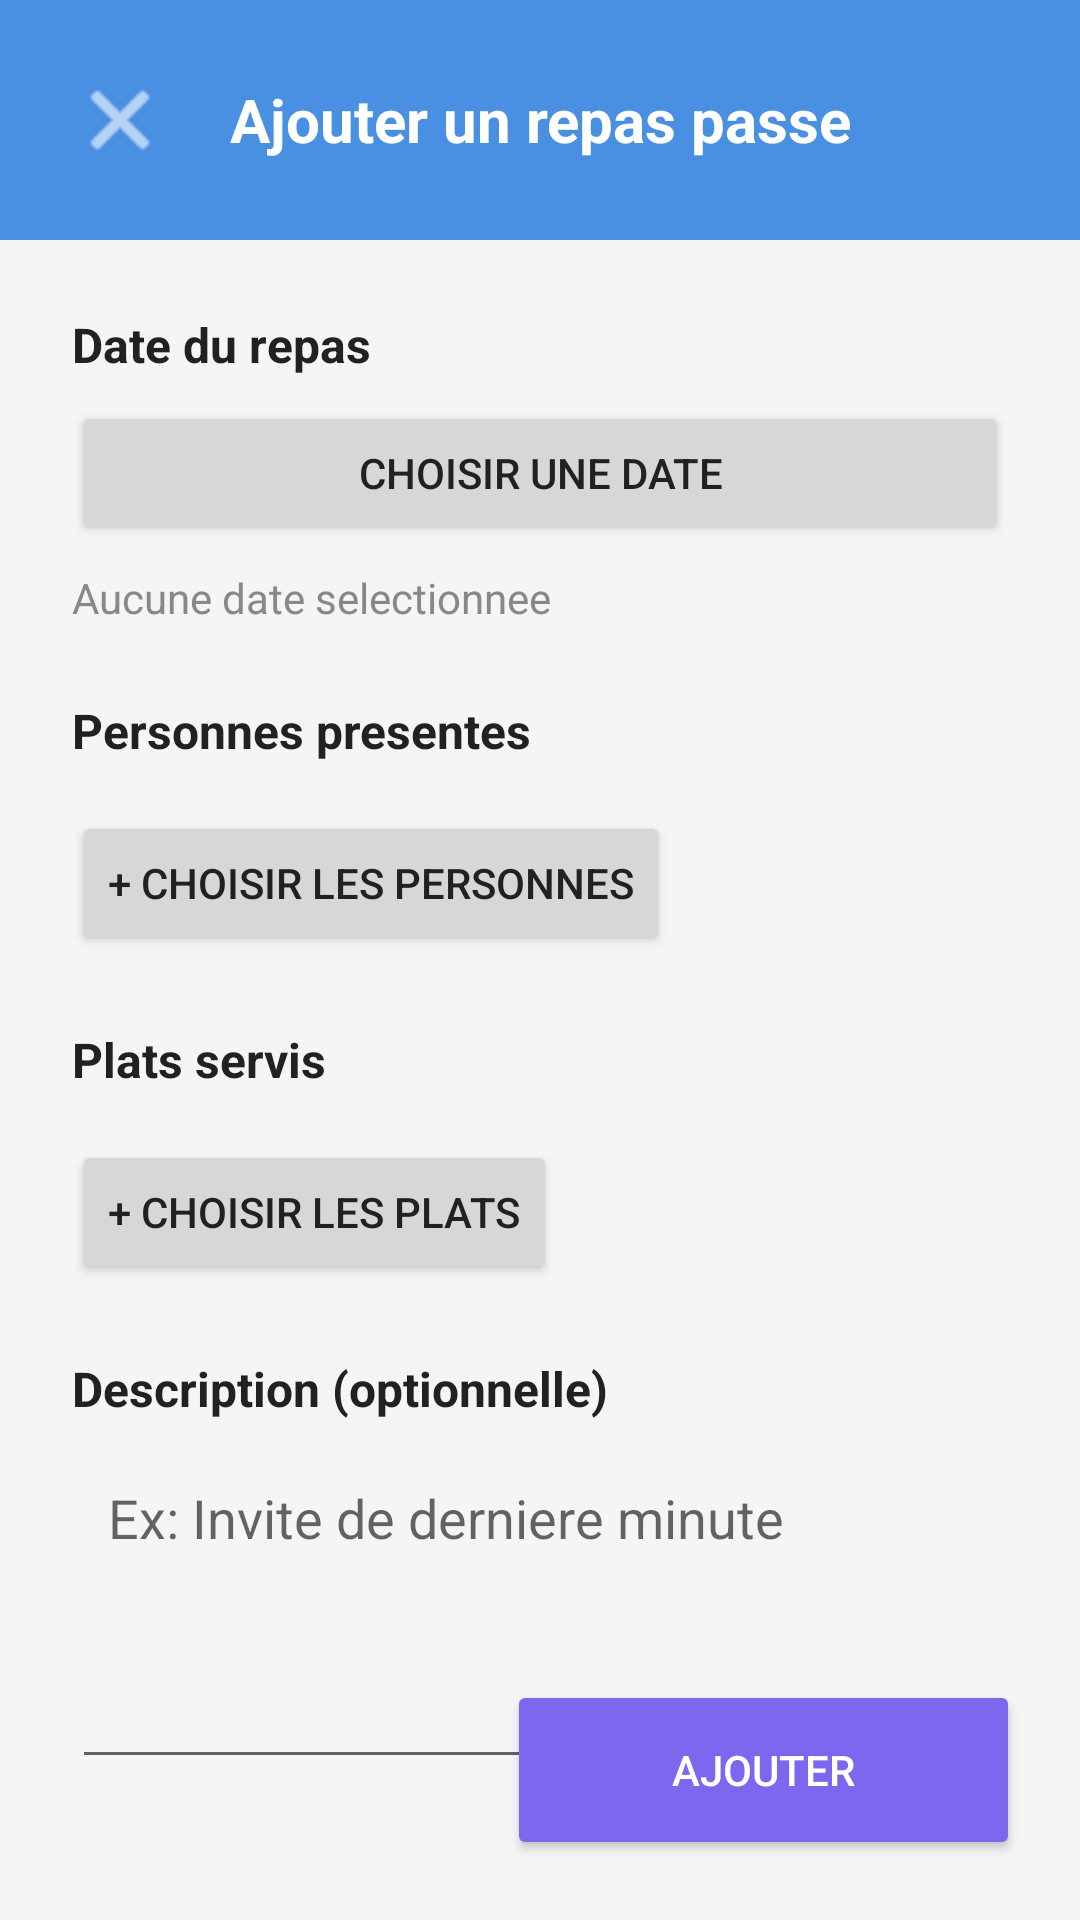

Point at icon controls on the screen. Image size 1080 x 1920, points as (x=x, y=y).
Retour: (x=120, y=120)
